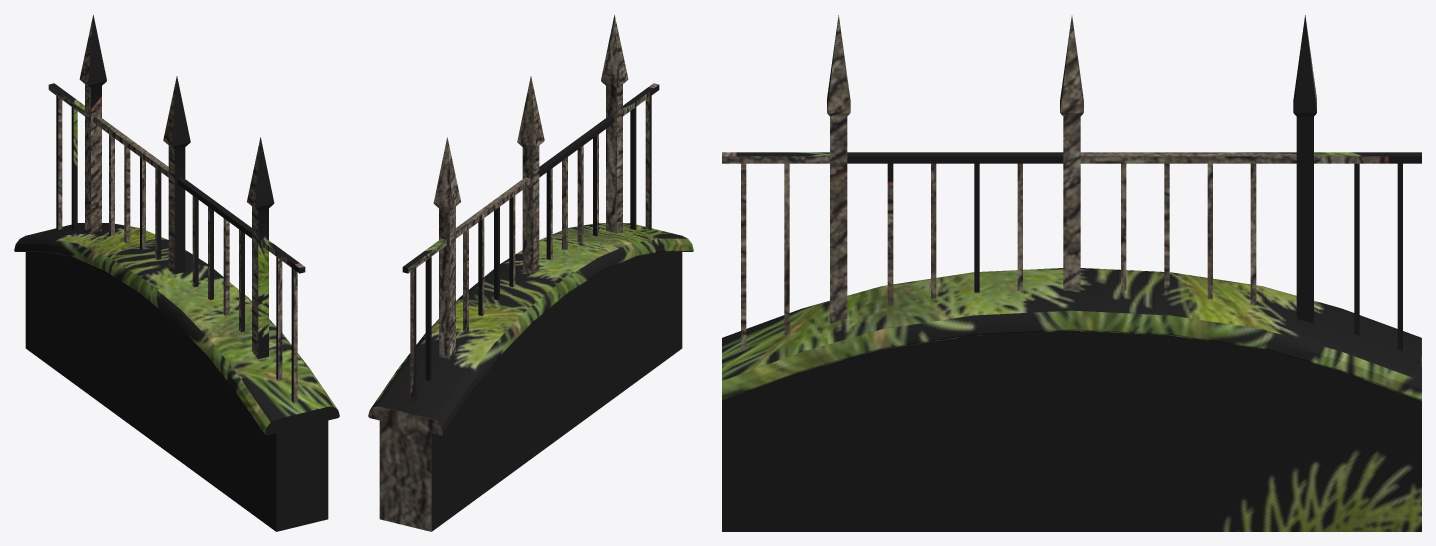
File: valla3.gltf
3 renders of one model, left to right at view 1: azimuth 30°, elevation 25°; view 2: azimuth 150°, elevation 25°; view 3: azimuth 270°, elevation 25°, orthographic. The views are drawn at different scales.
Visible parts, largest first — view 1: Fence3.002; view 2: Fence3.002; view 3: Fence3.002.
Part boxes in pixels (box(x1,y1,x2,y2)): Fence3.002: box(14, 15, 339, 531); Fence3.002: box(368, 15, 693, 531); Fence3.002: box(722, 15, 1421, 531).
Size of the model in its own units: 0.5318 by 2.43 by 3.09.
